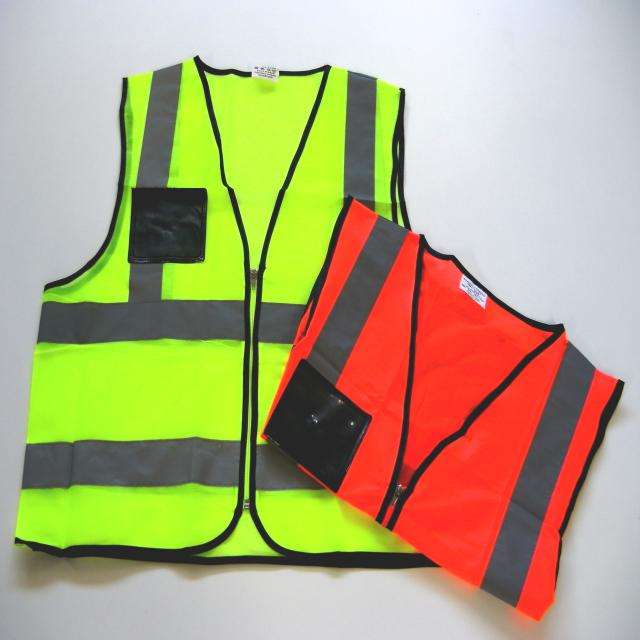Reflective-Jacket: (1, 59, 469, 572), (260, 187, 640, 627)
